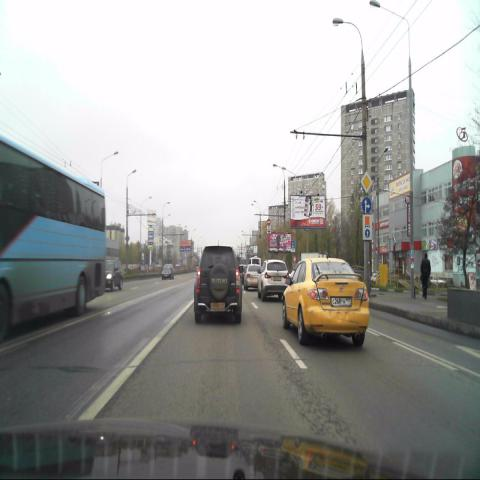4_8_2: (362, 215, 372, 240)
